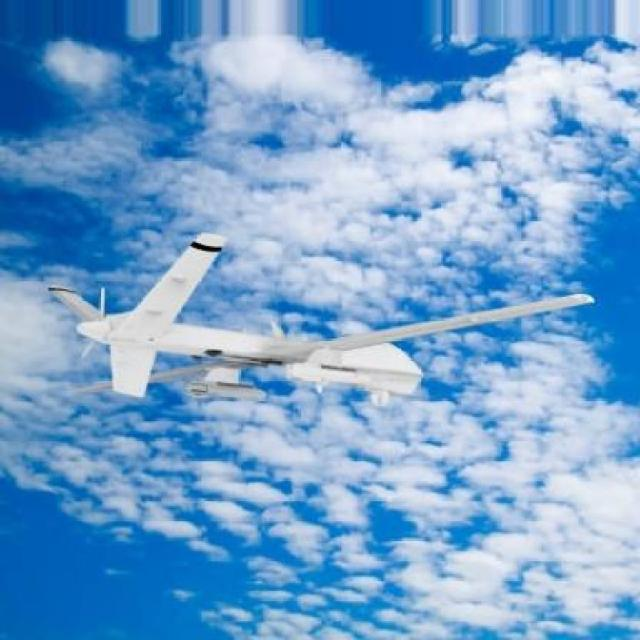iha: (40, 231, 603, 414)
